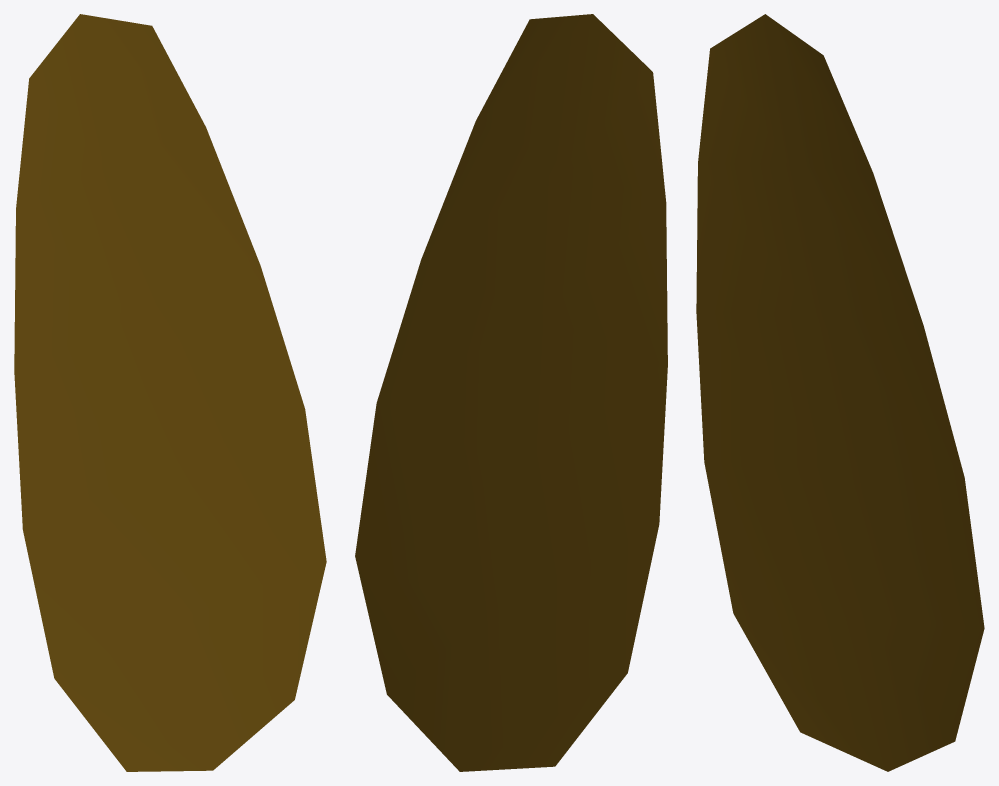
File: canary_feather_flight_secondary_024.obj
3 views of the same model, side by side, from view 1: azimuth 30°, elevation 25°; view 2: azimuth 150°, elevation 25°; view 3: azimuth 330°, elevation 25° (orthographic). The views are drawn at different scales.
Visible parts, largest first — view 1: feather_flight_secondary_024; view 2: feather_flight_secondary_024; view 3: feather_flight_secondary_024.
Part boxes in pixels (x1,y1,x2,y2): feather_flight_secondary_024: [14, 14, 326, 771]; feather_flight_secondary_024: [355, 14, 667, 771]; feather_flight_secondary_024: [696, 14, 984, 771].
Size of the model in its own units: 0.00626 by 0.0151 by 0.000155.
